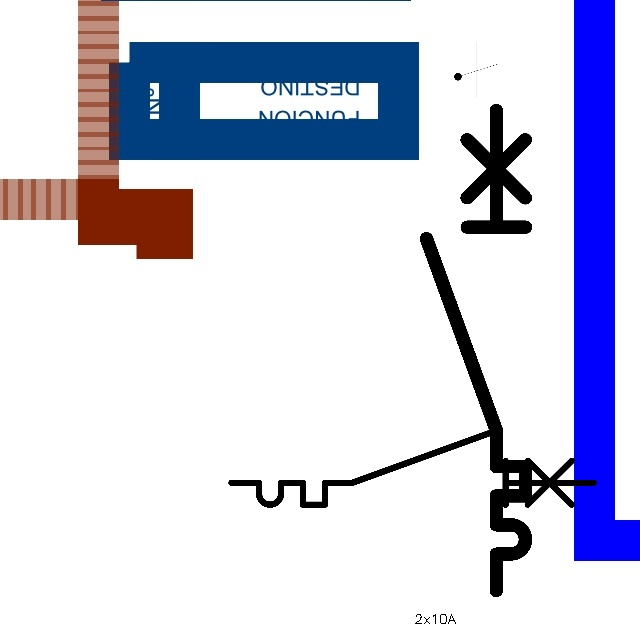interruptor_termomagnetico: (414, 98, 538, 603), (222, 421, 602, 514)
